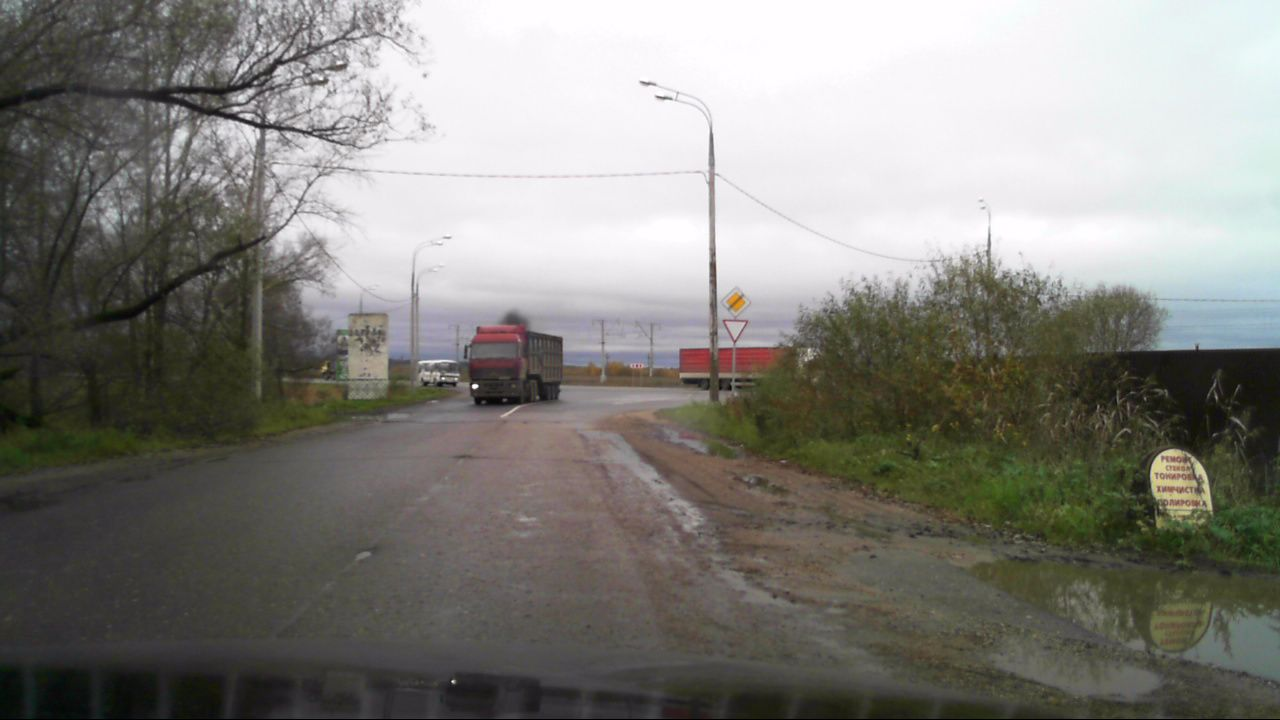main road: (722, 285, 753, 317)
